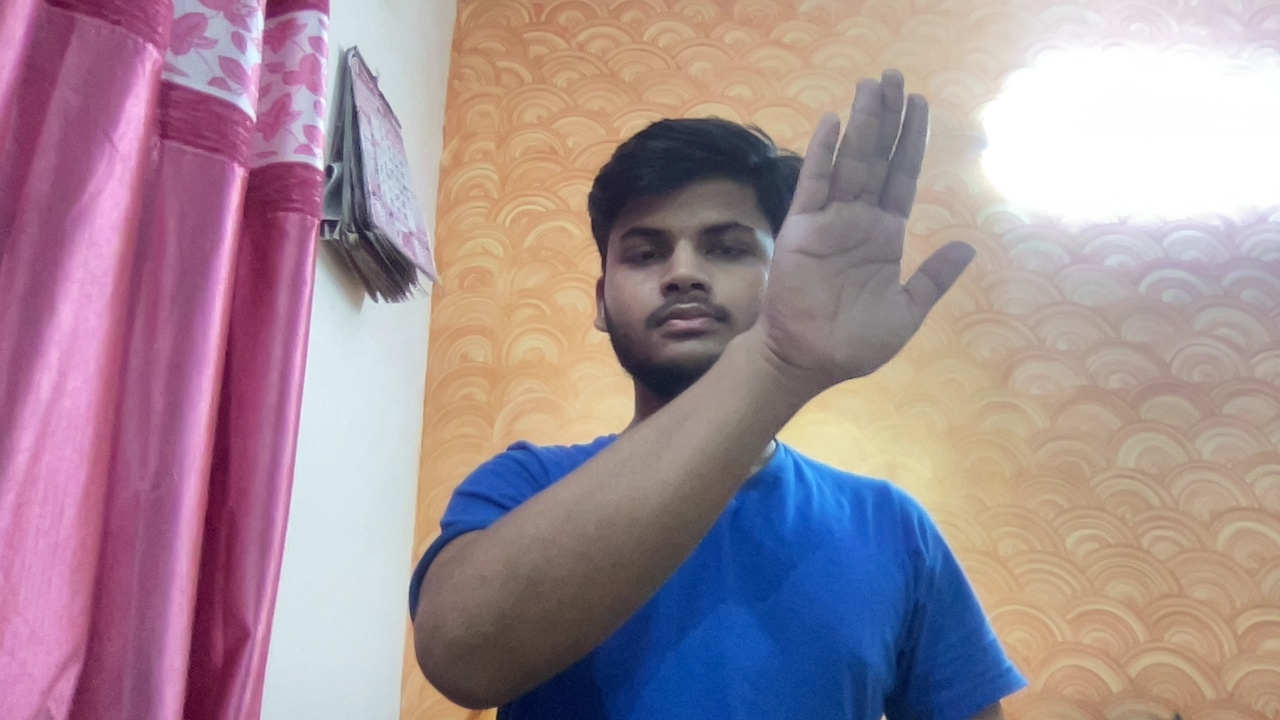hello: (760, 65, 987, 406)
